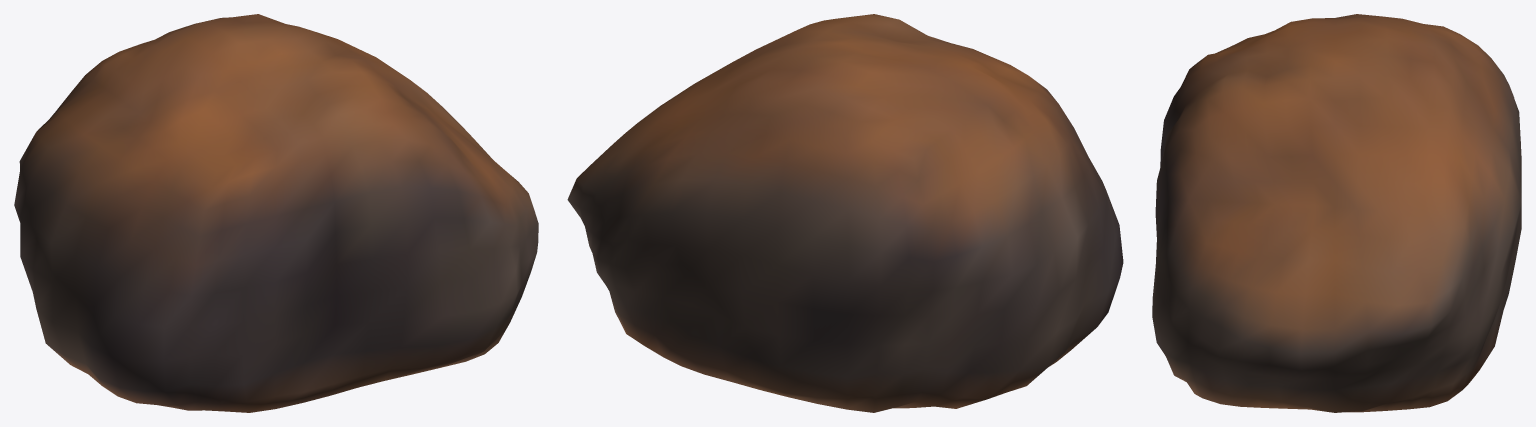
Rendered from wedge.glb.
3 renders of one model, left to right at view 1: azimuth 30°, elevation 25°; view 2: azimuth 150°, elevation 25°; view 3: azimuth 270°, elevation 25°, orthographic. The views are drawn at different scales.
Visible parts, largest first — view 1: rock-wedge; view 2: rock-wedge; view 3: rock-wedge.
Part boxes in pixels (x1,y1,x2,y2): rock-wedge: (14, 14, 538, 412); rock-wedge: (567, 14, 1123, 412); rock-wedge: (1152, 14, 1521, 412).
Bounding box in the file's own units: 0.5 × 0.3 × 0.36.
